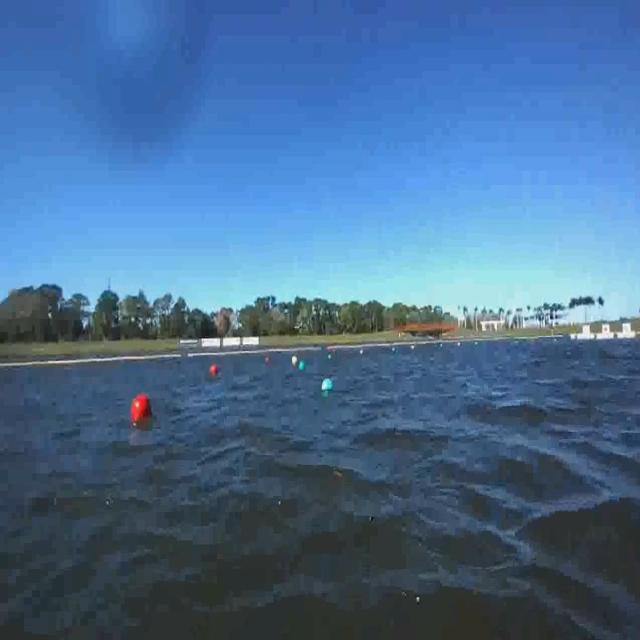green-buoy: (325, 375, 336, 392), (298, 360, 304, 371)
red-buoy: (133, 393, 155, 422), (210, 363, 218, 375)
